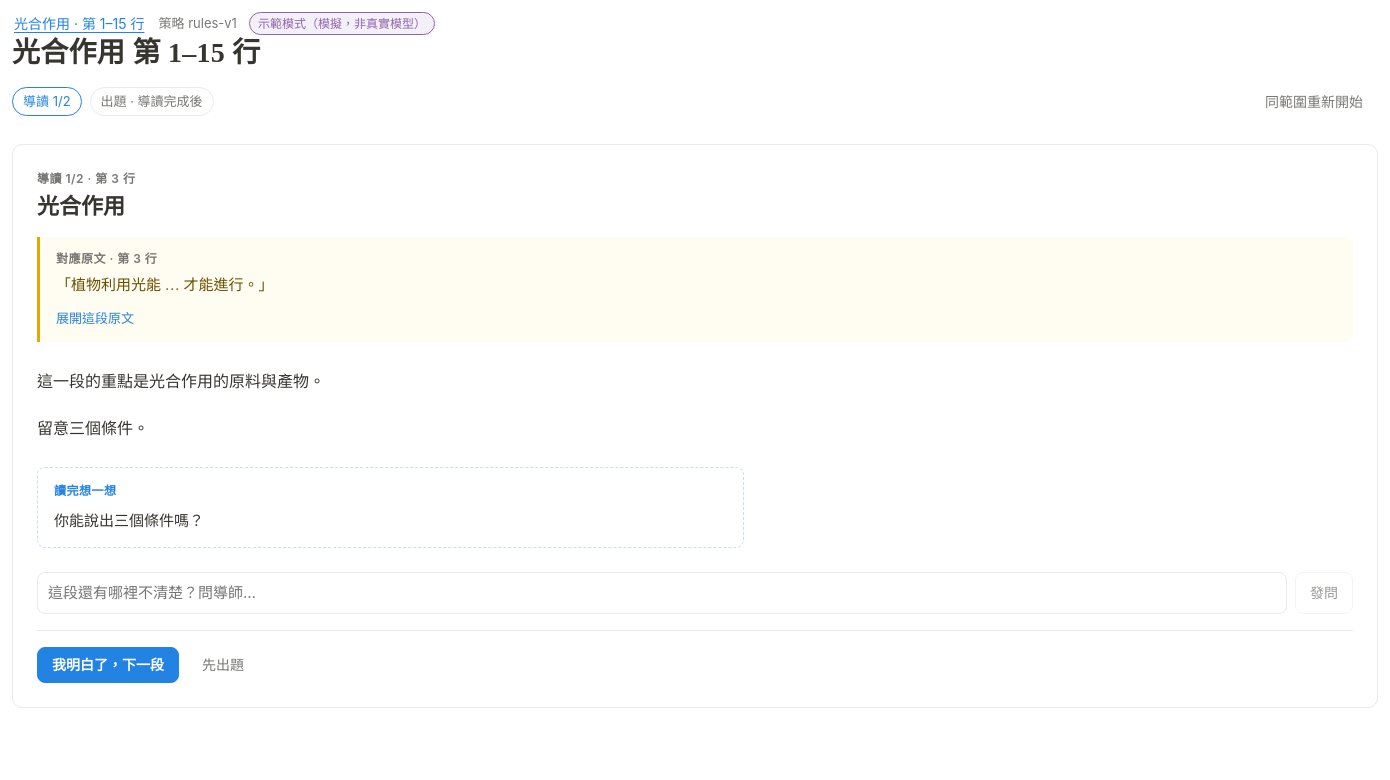
Test: 導讀 · 背景工作與提前出題 › shows the stage while a job runs, polls, and offers to write the questions early
The image size is (1390, 780).
Check: the element with test id "guide" is shown, box [37, 366, 744, 548]
Click the button "先出題" at [223, 665], box [187, 647, 259, 683]
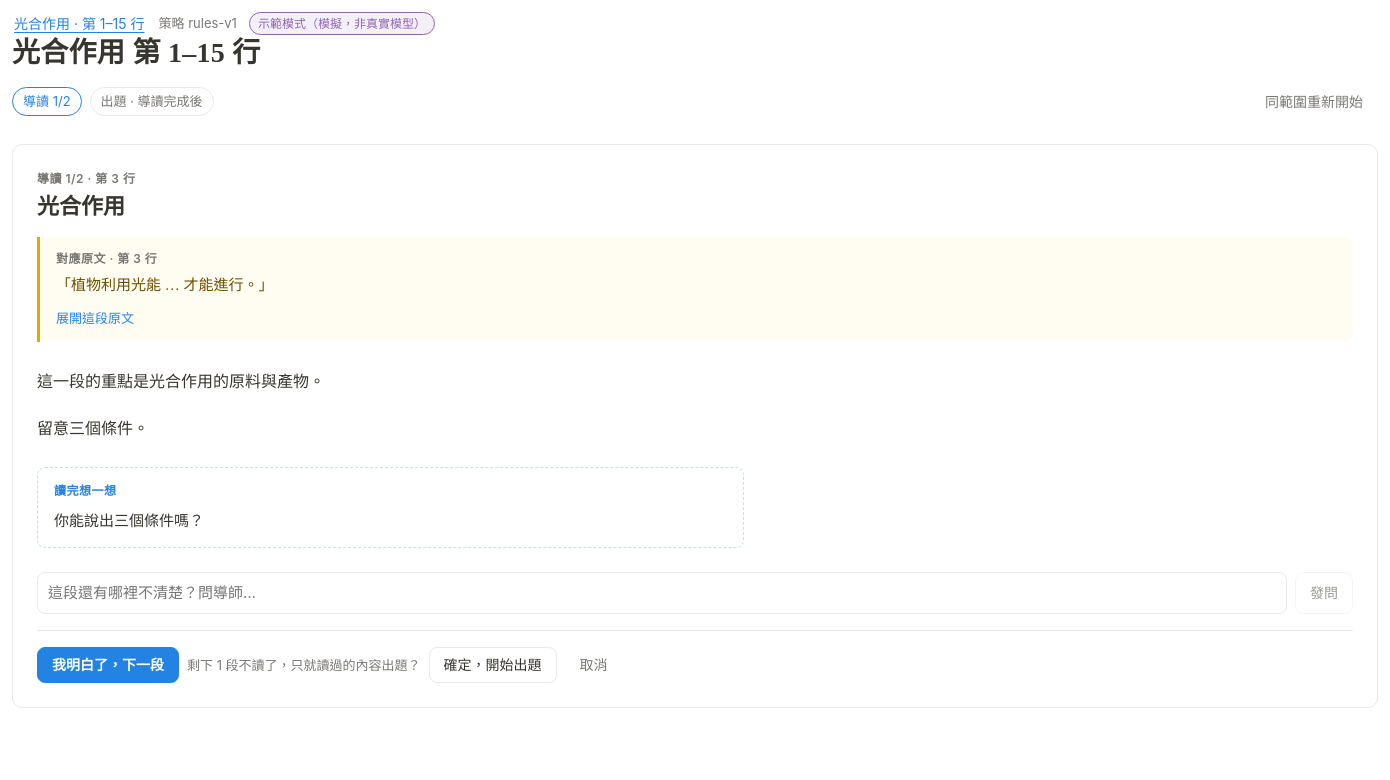
Check: the element with test id "confirm-finish" shows "剩下 1 段不讀了", box [187, 657, 421, 673]
Click the button "確定，開始出題" at [493, 665], box [429, 647, 557, 683]
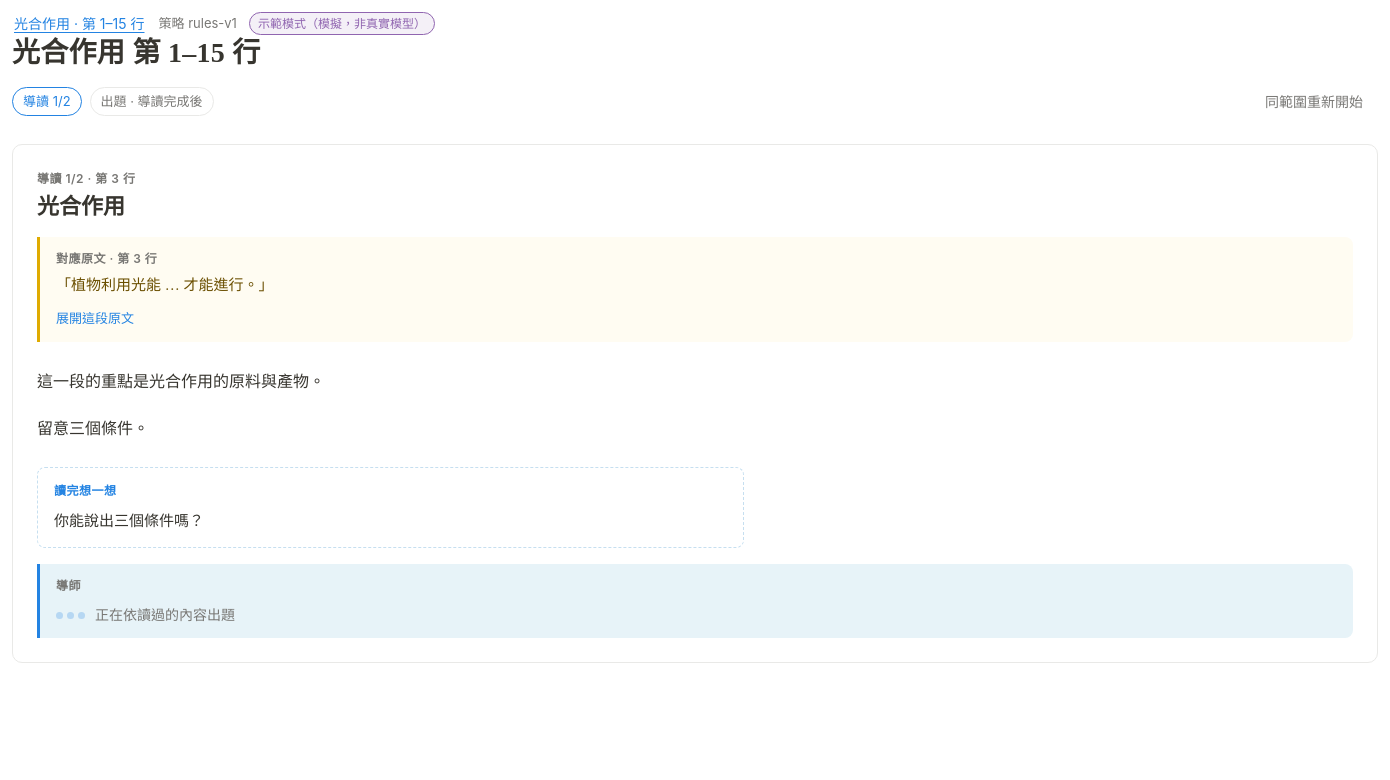
Check: the element with test id "job" shows "正在依讀過的內容出題", box [95, 606, 235, 623]
Check: the button "我明白了" is gone
